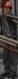hard-hat: (0, 10, 4, 15)
